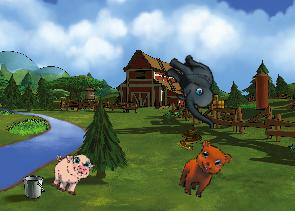bear: (175, 136, 234, 205)
elephant: (150, 48, 238, 130)
pig: (46, 147, 96, 199)
